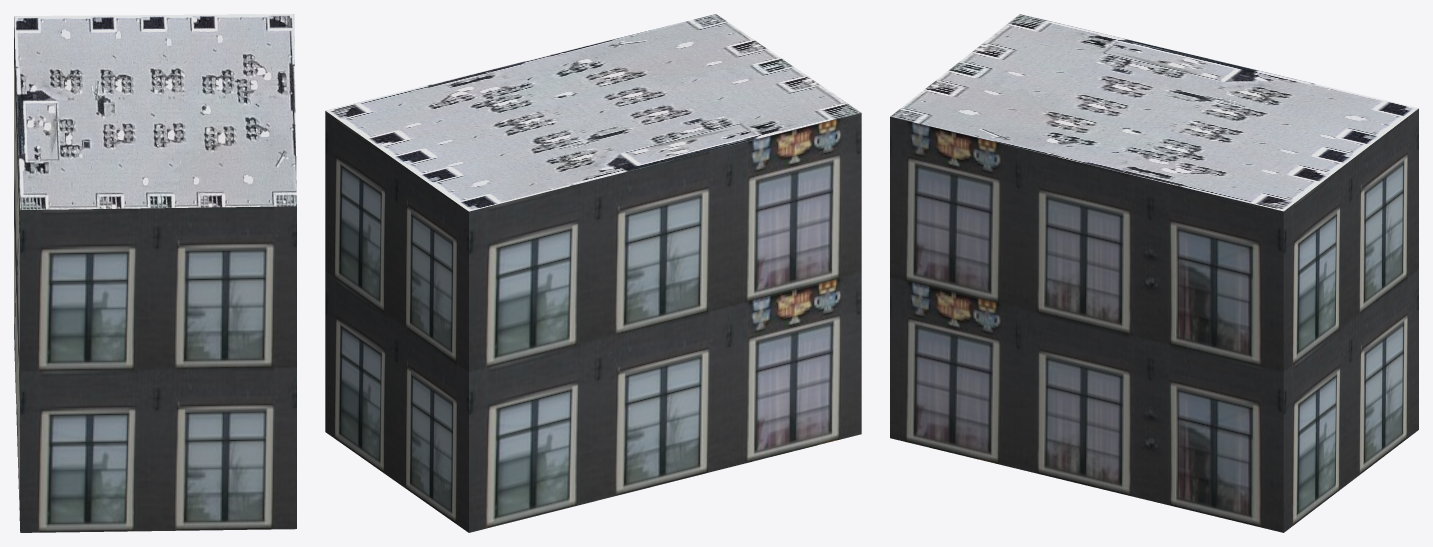
Rendered from ResTex__4053.fbx.
3 views of the same model, side by side, from view 1: azimuth 30°, elevation 25°; view 2: azimuth 150°, elevation 25°; view 3: azimuth 270°, elevation 25° (orthographic).
Parts seen in each view (by area): view 1: CityEngineMaterial_22_m, CityEngineMaterial_2_m; view 2: CityEngineMaterial_22_m, CityEngineMaterial_2_m; view 3: CityEngineMaterial_22_m, CityEngineMaterial_2_m.
Boxes of the visible parts, x1,y1,x2,y2 form: CityEngineMaterial_22_m: [14, 17, 296, 532]; CityEngineMaterial_2_m: [14, 14, 296, 210]; CityEngineMaterial_22_m: [325, 111, 861, 532]; CityEngineMaterial_2_m: [325, 14, 861, 211]; CityEngineMaterial_22_m: [890, 108, 1418, 532]; CityEngineMaterial_2_m: [890, 14, 1418, 211].
Size of the model in its own units: 7.91 by 6 by 8.95.
Materials: 2 (2 with a texture image).
